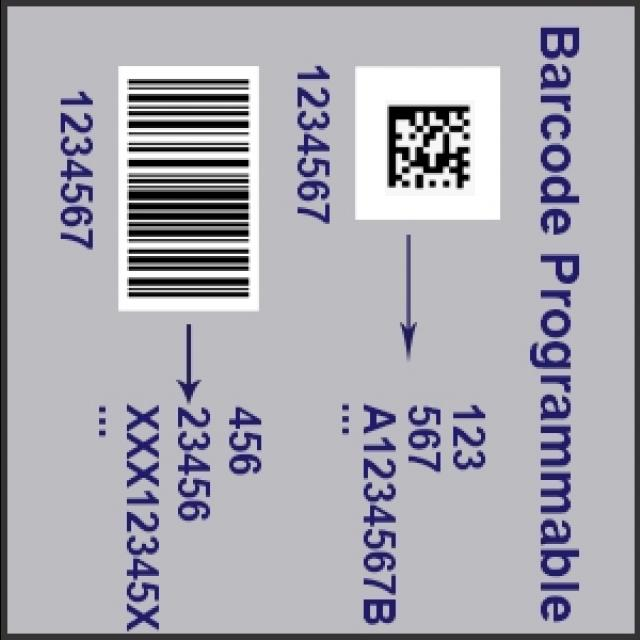DataMatrix: (384, 101, 474, 197)
